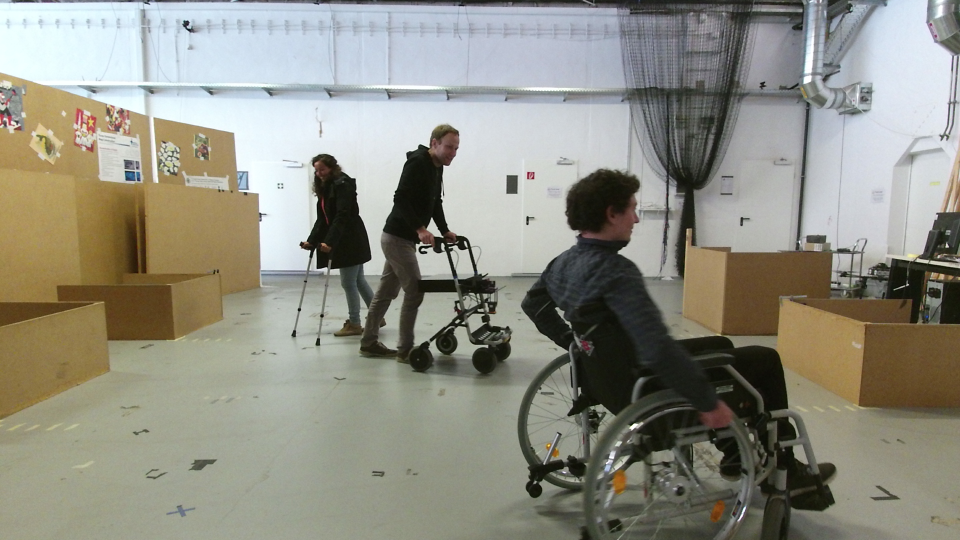crutches: (284, 151, 374, 342)
wheelchair: (507, 161, 850, 540)
